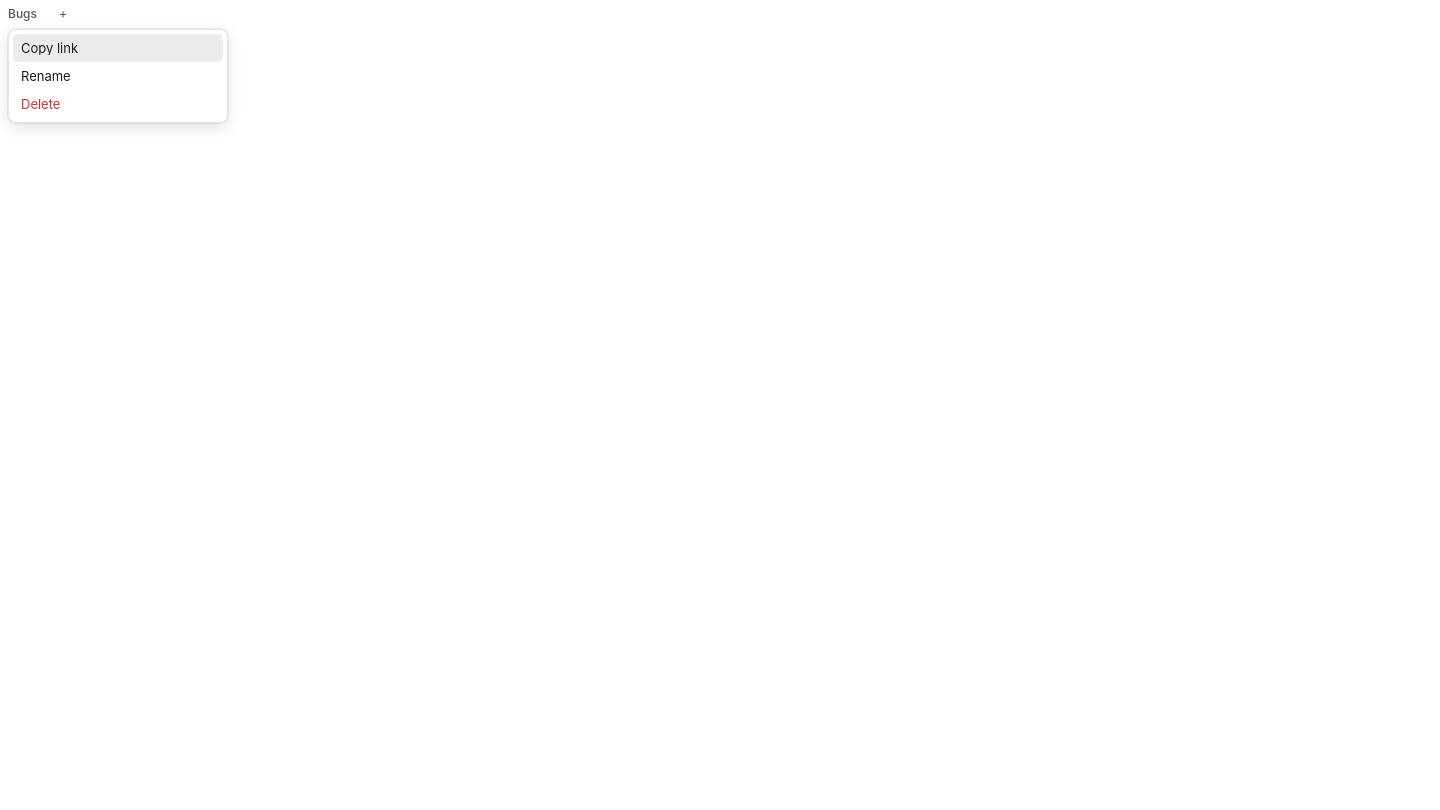
discarding a view rename › keeps the dialog, and the typed name, on keep editing
Click the menu item "Rename": click(46, 76) top-left (21, 68), bottom-right (71, 84)
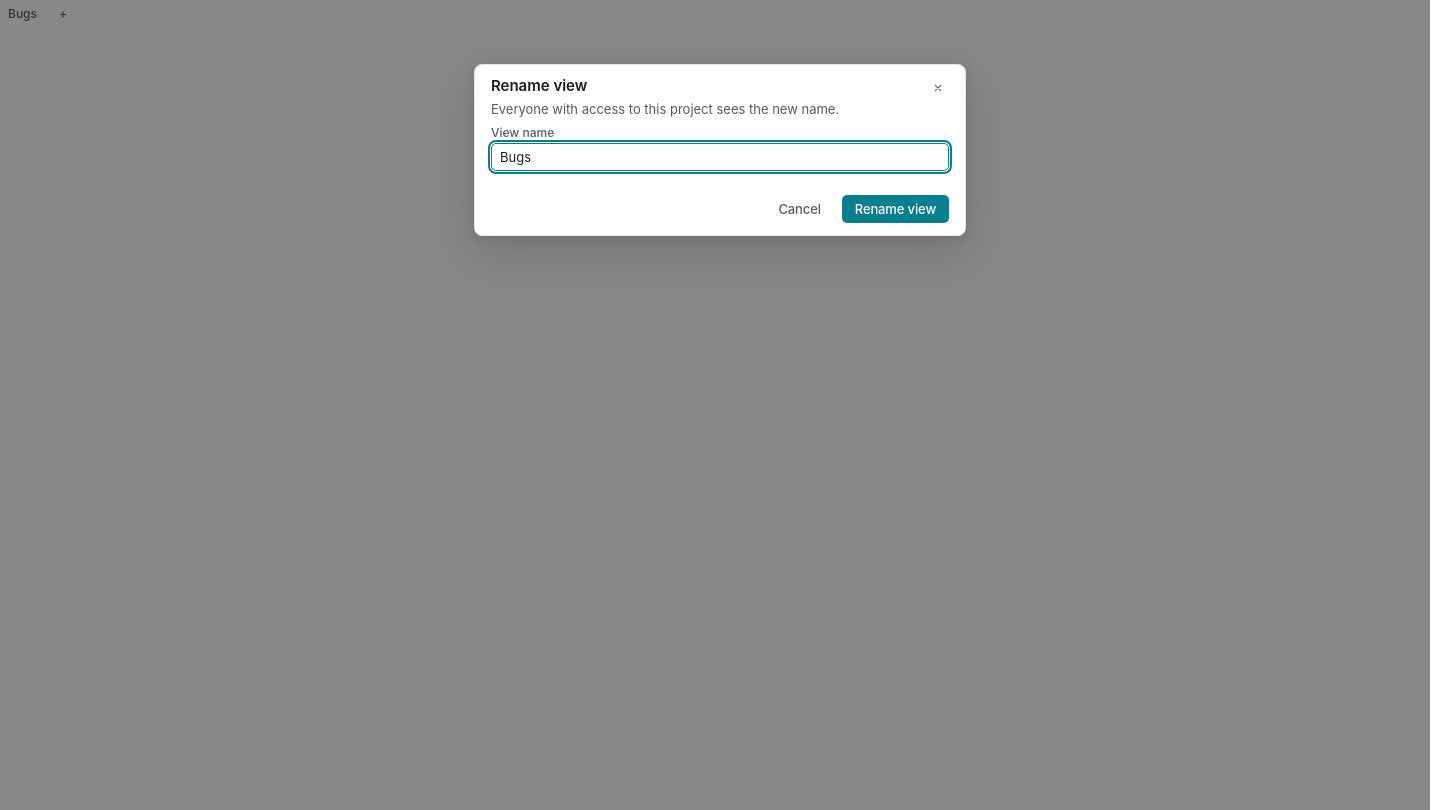
Result: the dialog "Rename view" is shown at top-left (474, 64), bottom-right (966, 236)
In the field labelled "View name": (720, 157) top-left (500, 144), bottom-right (940, 170), type "ness"
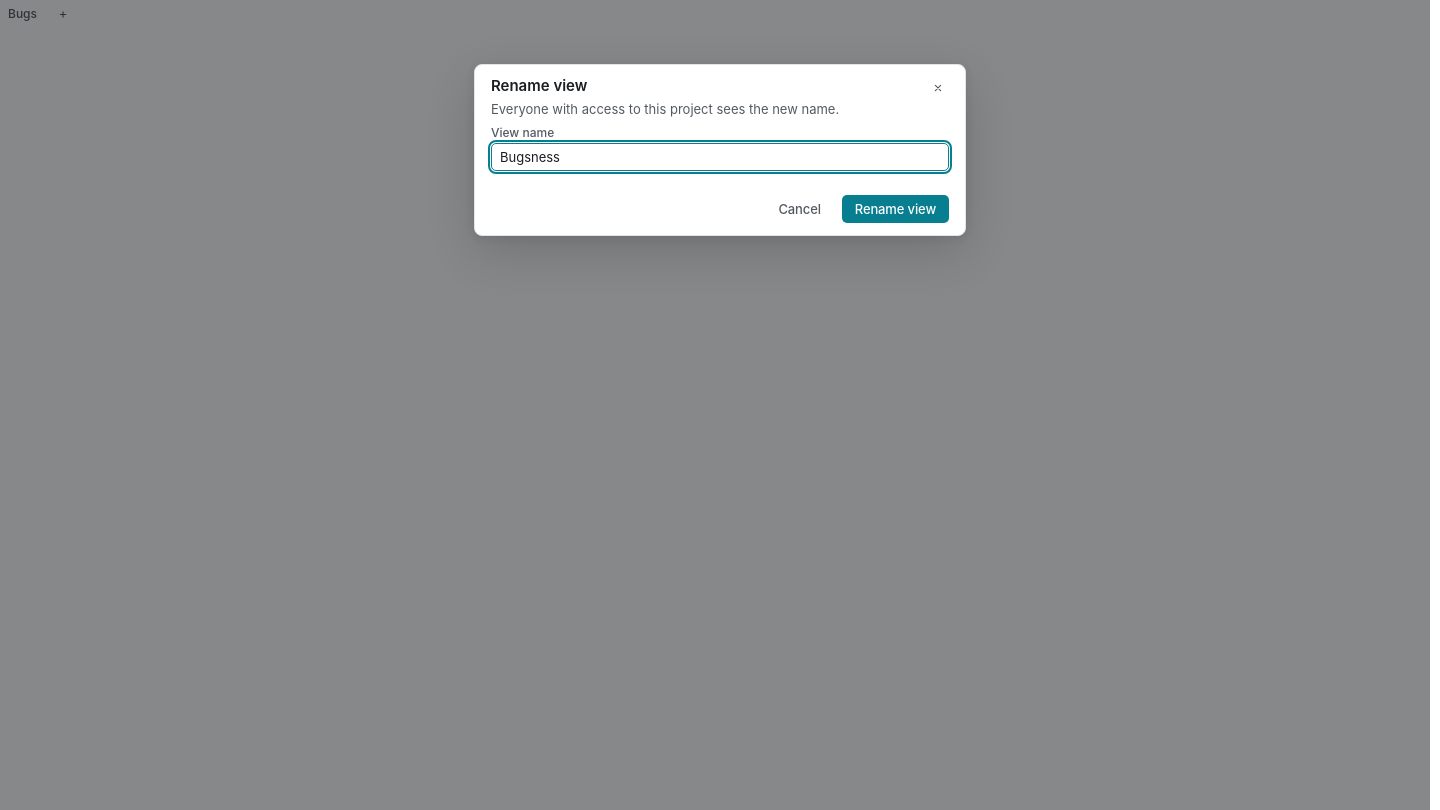
Press Escape
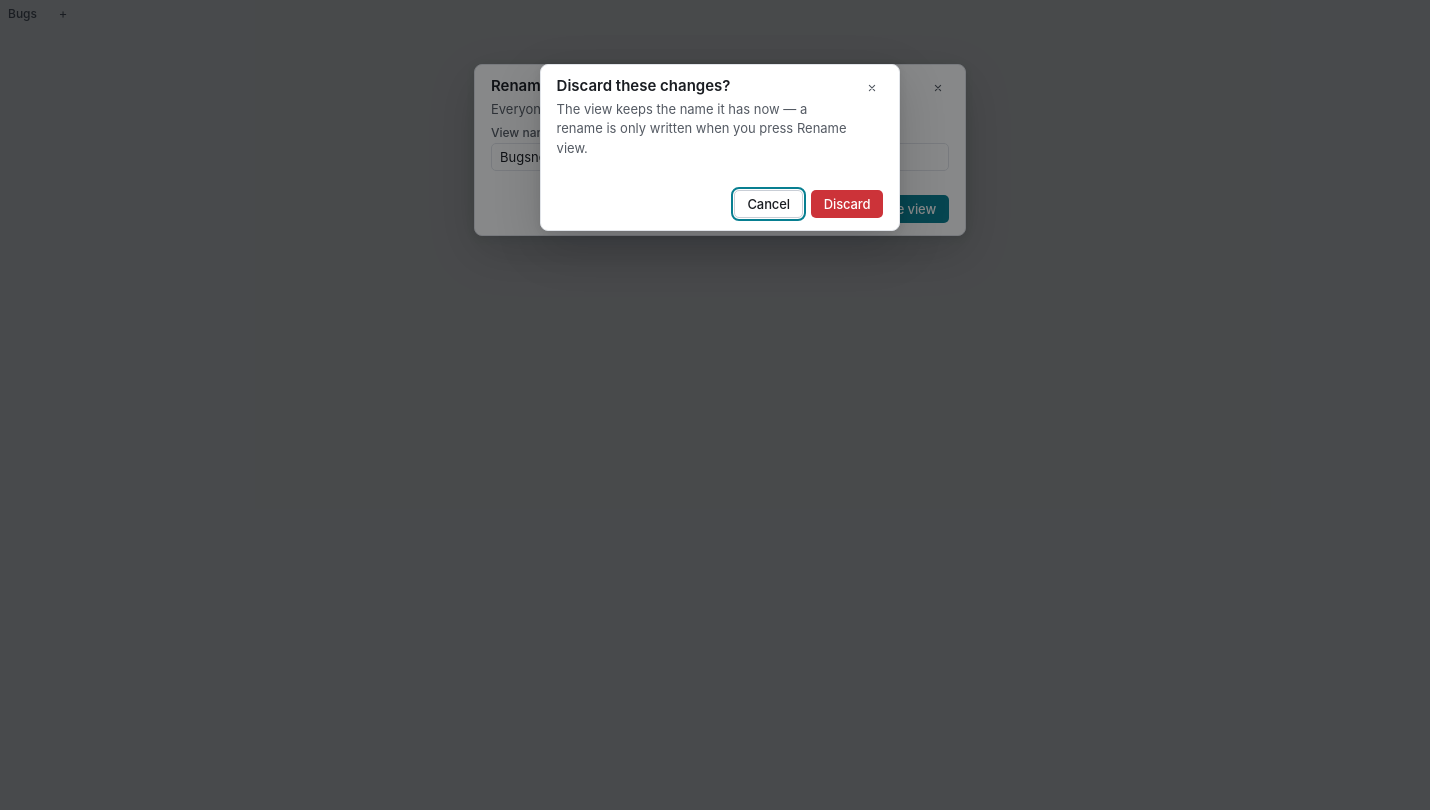
Click the button "Cancel": click(769, 204) top-left (734, 190), bottom-right (803, 218)
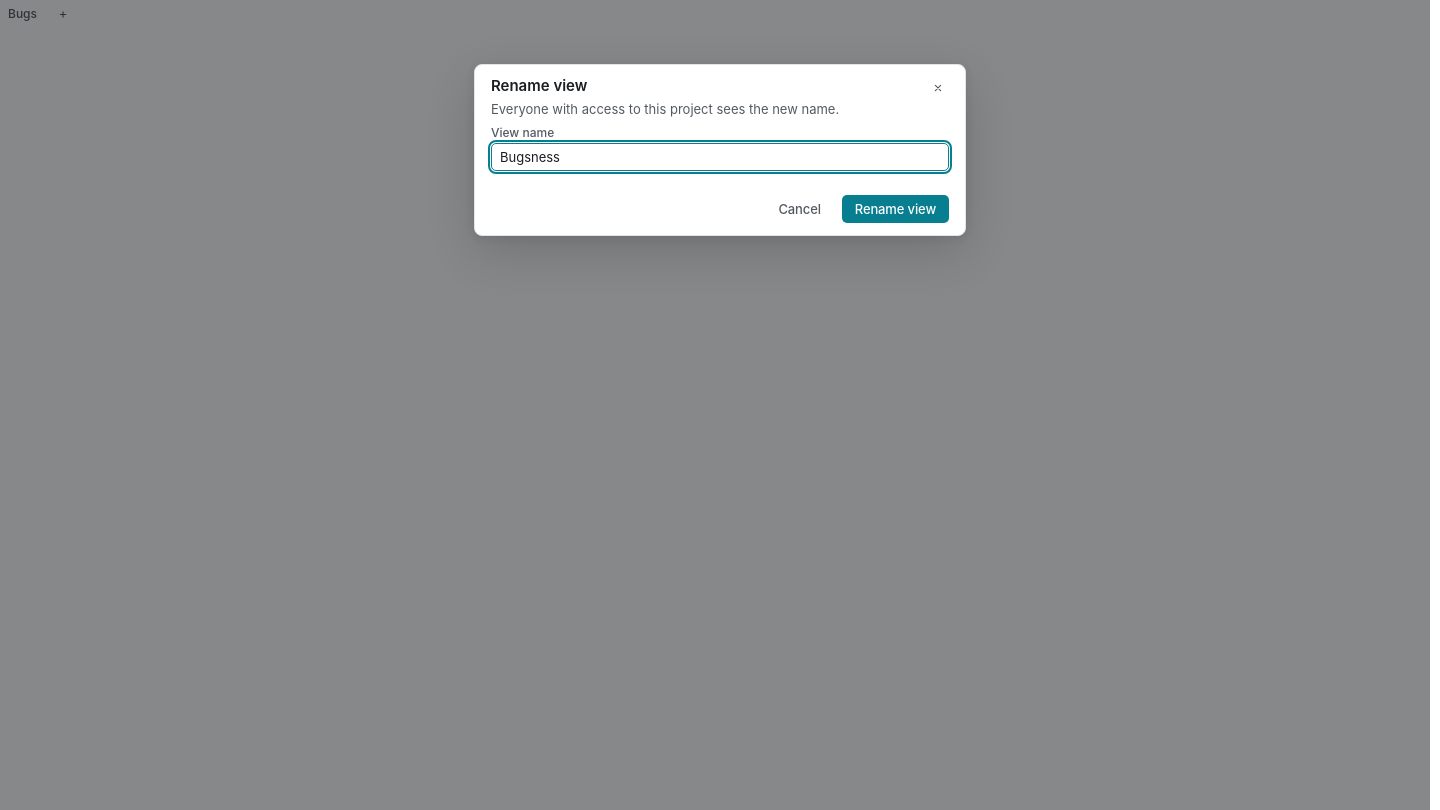
Result: the dialog "Rename view" is shown at top-left (474, 64), bottom-right (966, 236)
Result: the field labelled "View name" holds "Bugsness" at top-left (500, 144), bottom-right (940, 170)
Result: the heading "Discard these changes?" is gone
